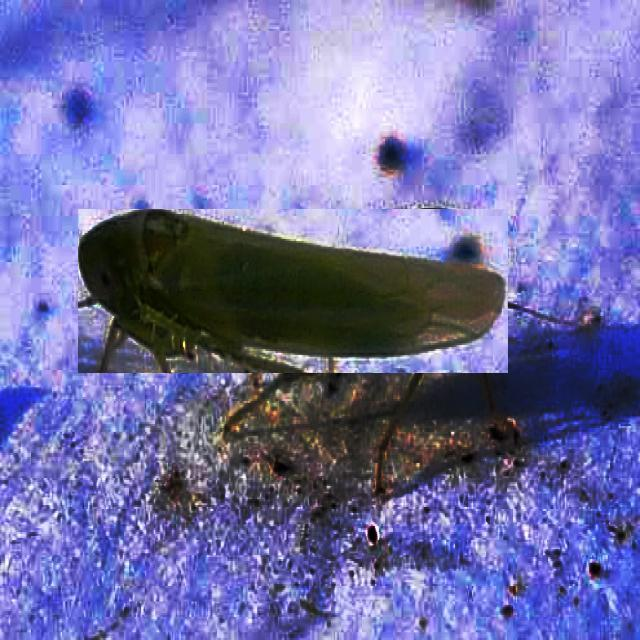green-leafhopper: (78, 209, 508, 373)
